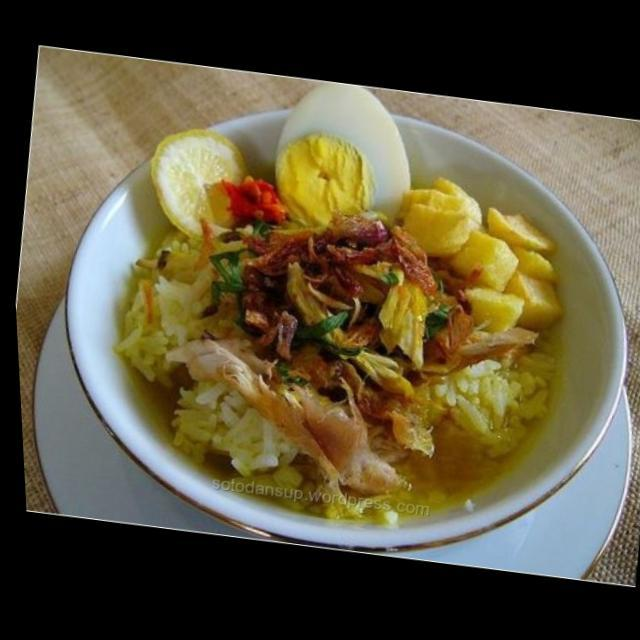Soto: (114, 106, 564, 515)
